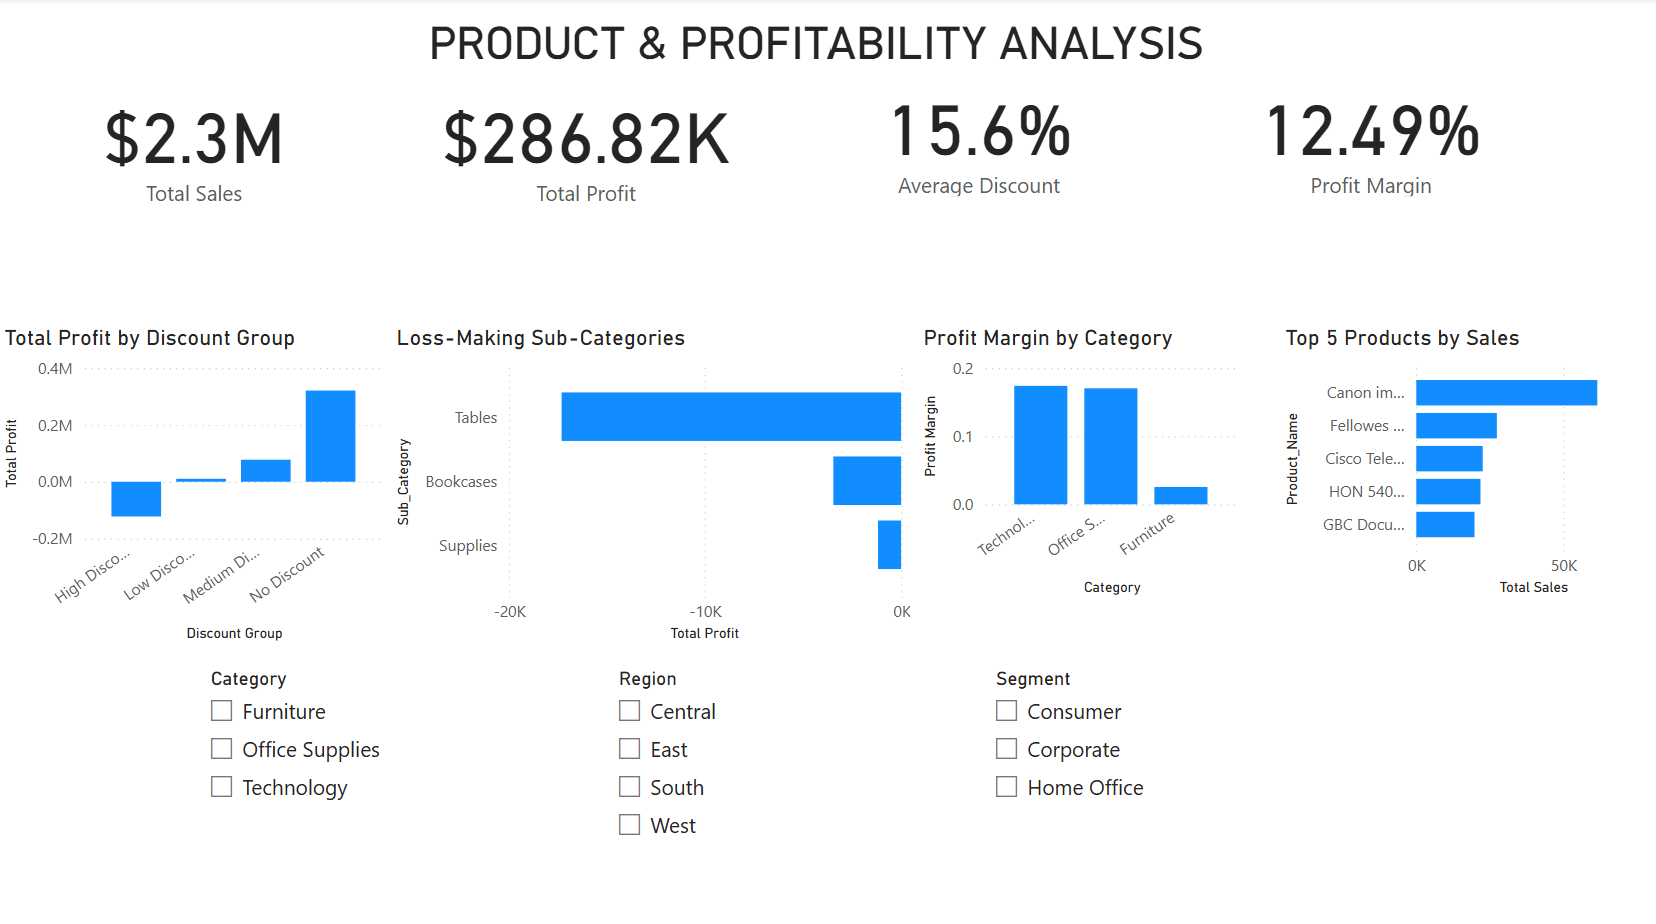

What the dashboard file says about the page in this screenshot:
{"tool":"powerbi","page":{"name":"Product & Profitability Analysis","canvas":[1280,720],"ordinal":1},"visuals":[{"type":"textbox","title":"PRODUCT & PROFITABILITY ANALYSIS","box":[324.6,15.3,629.3,50.5],"z":0},{"type":"card","fields":{"Values":["Superstore.Total Sales"]},"box":[0,41.3,300.1,140.9],"z":1},{"type":"card","fields":{"Values":["Superstore.Total Profit"]},"box":[300.1,53.6,300.1,116.4],"z":2},{"type":"card","fields":{"Values":["Superstore.Average Discount"]},"box":[600.2,53.6,300.1,104.1],"z":3},{"type":"card","fields":{"Values":["Superstore.Profit Margin"]},"box":[900.3,53.6,300.1,104.1],"z":4},{"type":"columnChart","fields":{"Category":["Superstore.Discount Group"],"Y":["Superstore.Total Profit"]},"box":[0,251.1,300.1,246.5],"z":5},{"type":"barChart","title":"Loss-Making Sub-Categories","fields":{"Category":["Superstore.Sub_Category"],"Y":["Superstore.Total Profit"]},"box":[300.1,251.1,402.7,246.5],"z":6},{"type":"columnChart","fields":{"Category":["Superstore.Category"],"Y":["Superstore.Profit Margin"]},"box":[702.8,251.1,251.1,211.3],"z":7},{"type":"barChart","title":"Top 5 Products by Sales","fields":{"Category":["Superstore.Product_Name"],"Y":["Superstore.Total Sales"]},"box":[979.9,251.1,300.1,211.3],"z":8},{"type":"slicer","fields":{"Values":["Superstore.Category"]},"box":[150,508.3,255.7,171.5],"z":9},{"type":"slicer","fields":{"Values":["Superstore.Region"]},"box":[462.4,508.3,240.4,171.5],"z":10},{"type":"slicer","fields":{"Values":["Superstore.Segment"]},"box":[750.2,508.3,251.1,147],"z":11}]}

Visuals, with their boxes in screenshot pixels (x1, y1, x2, y2), scaled from the page's 1280x720 canvas onto the 1656x924 screenshot:
"PRODUCT & PROFITABILITY ANALYSIS" textbox: {"x1": 420, "y1": 20, "x2": 1234, "y2": 84}
card - Superstore.Total Sales: {"x1": 0, "y1": 53, "x2": 388, "y2": 234}
card - Superstore.Total Profit: {"x1": 388, "y1": 69, "x2": 777, "y2": 218}
card - Superstore.Average Discount: {"x1": 777, "y1": 69, "x2": 1165, "y2": 202}
card - Superstore.Profit Margin: {"x1": 1165, "y1": 69, "x2": 1553, "y2": 202}
columnChart - Superstore.Discount Group x Superstore.Total Profit: {"x1": 0, "y1": 322, "x2": 388, "y2": 639}
"Loss-Making Sub-Categories" barChart: {"x1": 388, "y1": 322, "x2": 909, "y2": 639}
columnChart - Superstore.Category x Superstore.Profit Margin: {"x1": 909, "y1": 322, "x2": 1234, "y2": 593}
"Top 5 Products by Sales" barChart: {"x1": 1268, "y1": 322, "x2": 1655, "y2": 593}
slicer - Superstore.Category: {"x1": 194, "y1": 652, "x2": 525, "y2": 872}
slicer - Superstore.Region: {"x1": 598, "y1": 652, "x2": 909, "y2": 872}
slicer - Superstore.Segment: {"x1": 971, "y1": 652, "x2": 1295, "y2": 841}
